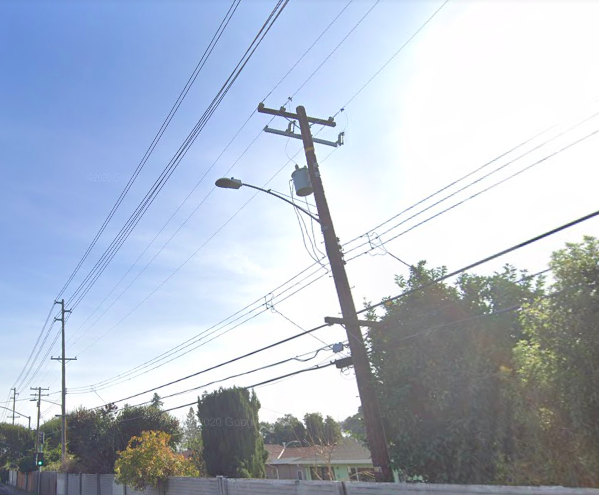utility_pole: (253, 91, 350, 162)
